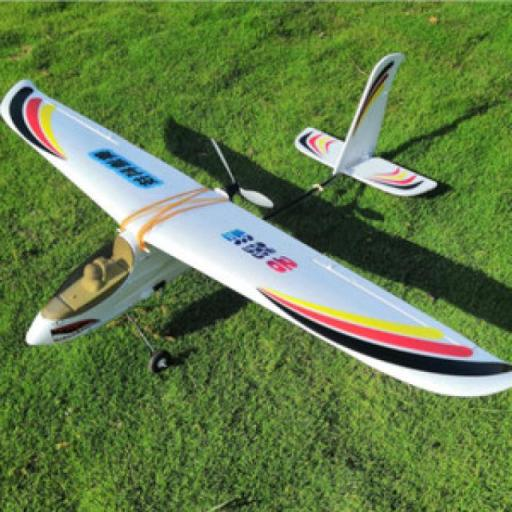uav: (0, 49, 511, 404)
